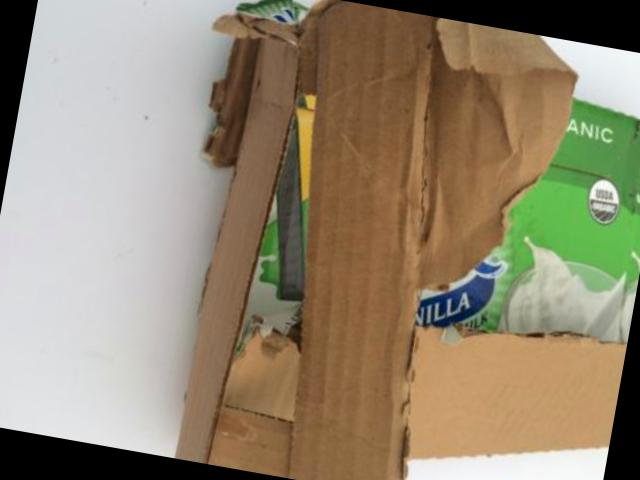cardboard paper: (178, 0, 640, 480)
